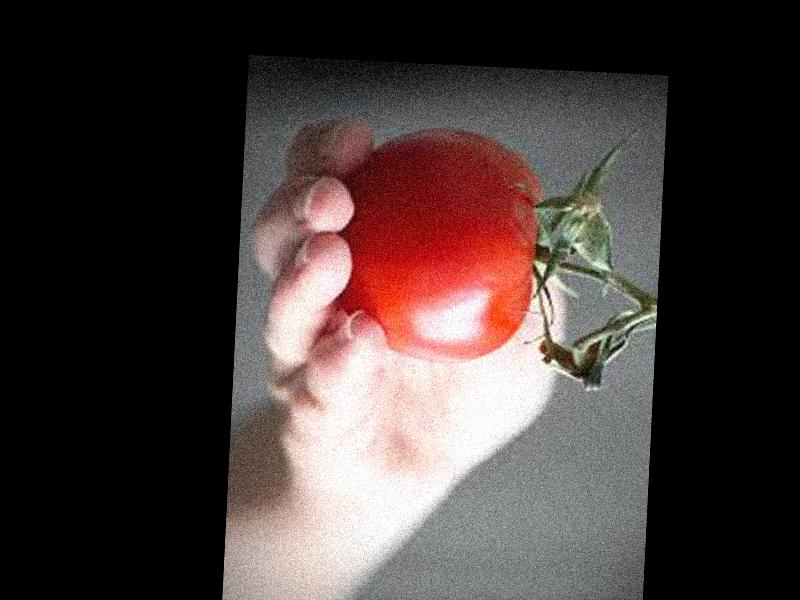Tomato: (335, 123, 550, 365)
